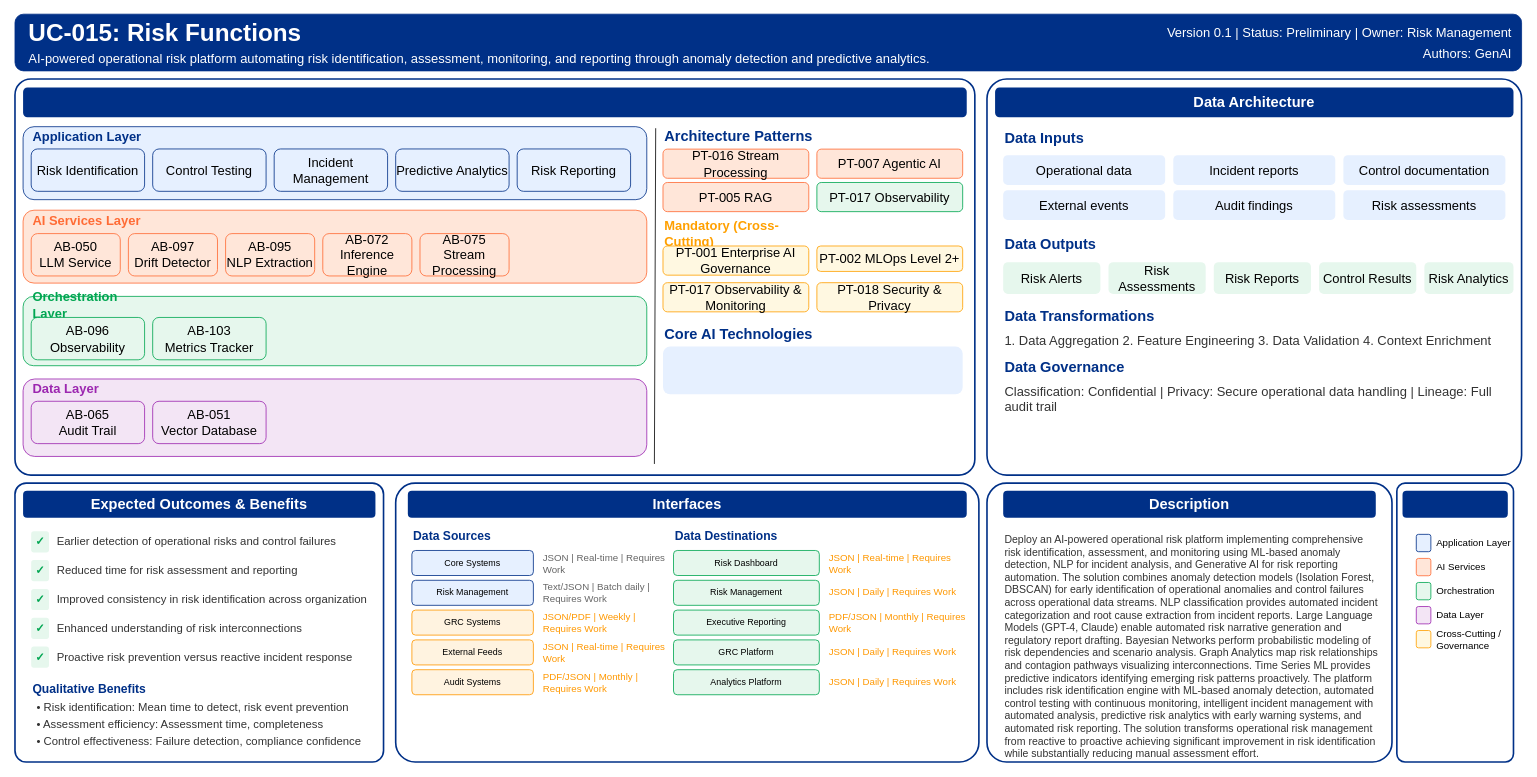
Image size: 1537x777. Some labels were removed from this diagram. The box of each missing label's shape, as (x1, y1, x2, y2) in pixels:
Isolation Forest/DBSCAN | GPT-4/Claude | Bayesian Networks: (663, 346, 962, 394)
Legend: (1402, 490, 1507, 517)
Solution: (23, 87, 966, 117)
